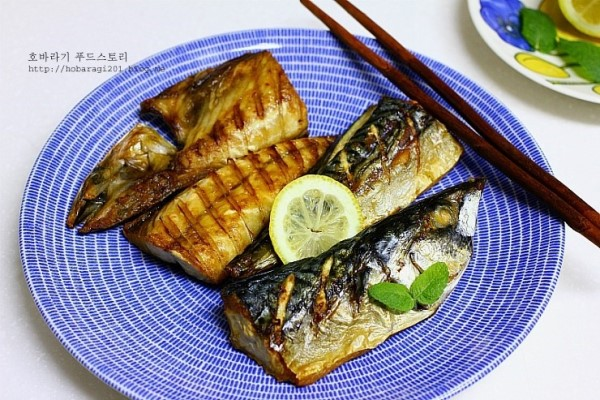godeung-eogu-i: (219, 176, 488, 388), (219, 95, 469, 293), (63, 48, 309, 238), (119, 131, 347, 285)
